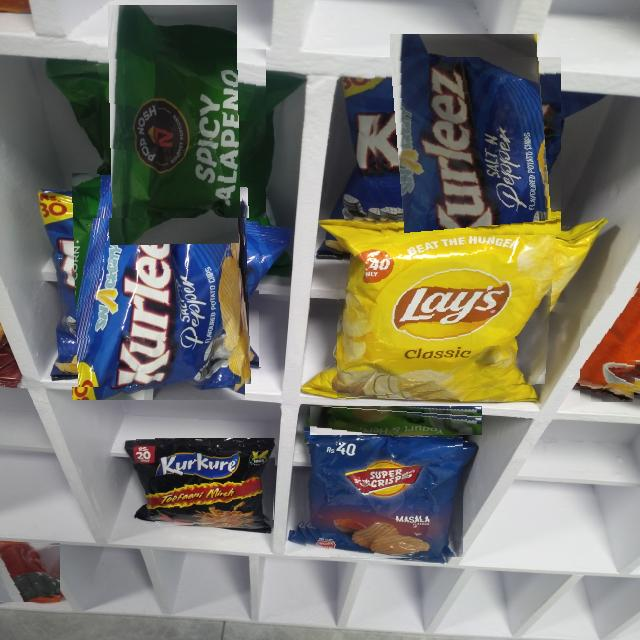Plastic: (59, 186, 259, 387), (367, 57, 561, 250), (337, 235, 557, 400), (80, 33, 266, 218), (296, 437, 463, 560), (126, 438, 275, 528), (580, 283, 640, 402), (309, 405, 482, 435), (0, 542, 60, 602)
